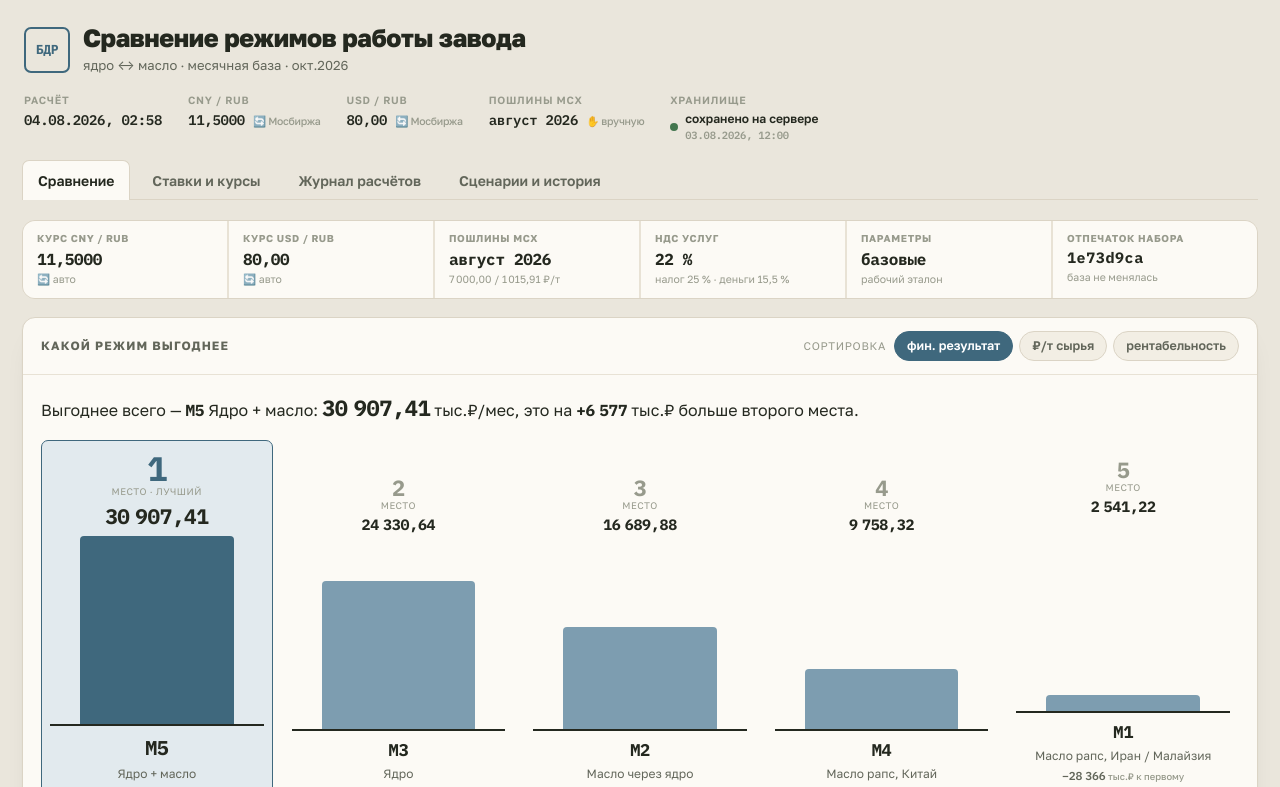
it: Сторож неправдоподобия › показывает оба значения и говорит, что пошлина плавающая
Step 1. Click the button "Ставки и курсы" → (206, 180), box [136, 160, 277, 200]
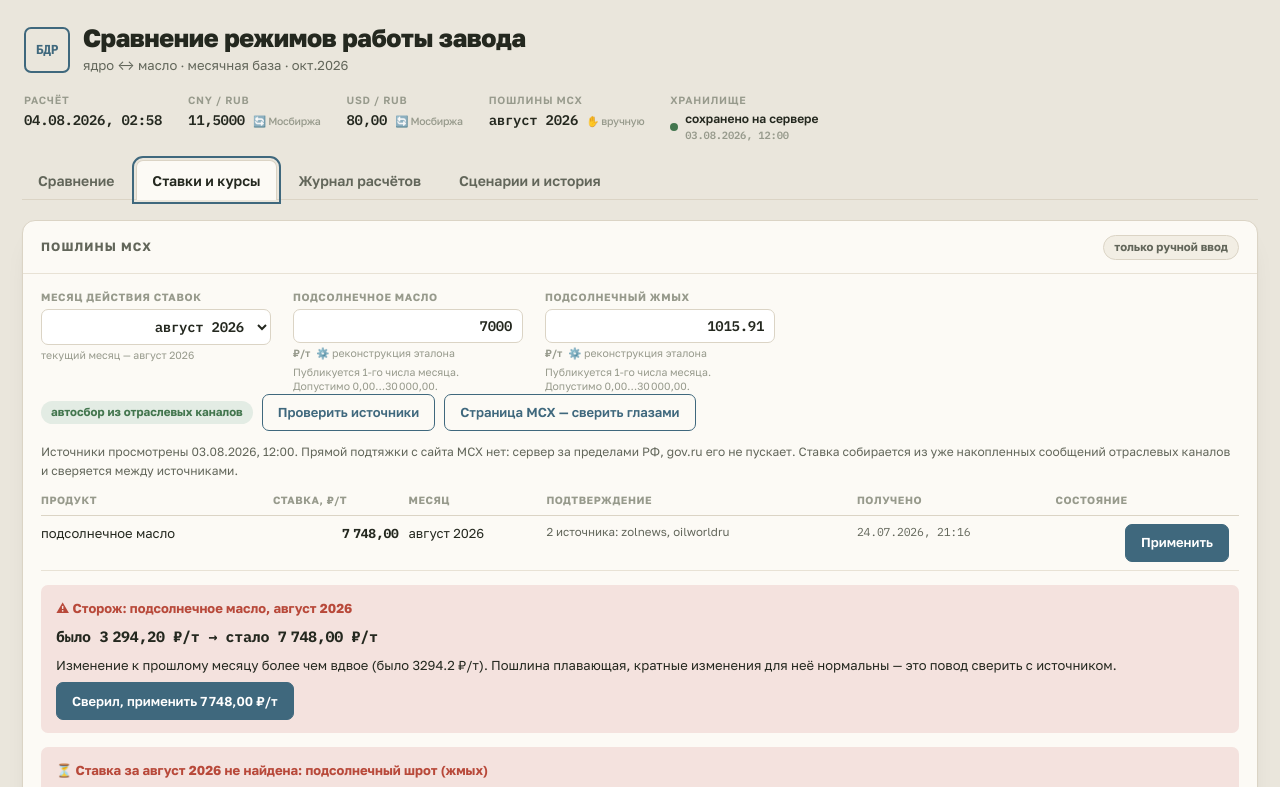
Result: the text "⚠ Сторож: подсолнечное масло, август 2026" is shown at [56, 600, 352, 616]
Result: the text "было 3 294,20 ₽/т → стало 7 748,00 ₽/т" is shown at [56, 627, 378, 646]
Result: the text "плавающая" is shown at [56, 657, 1116, 673]
